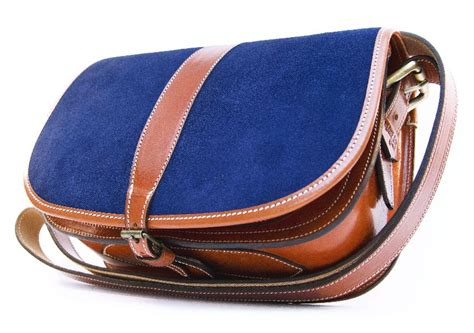gamuza: (27, 27, 386, 216)
